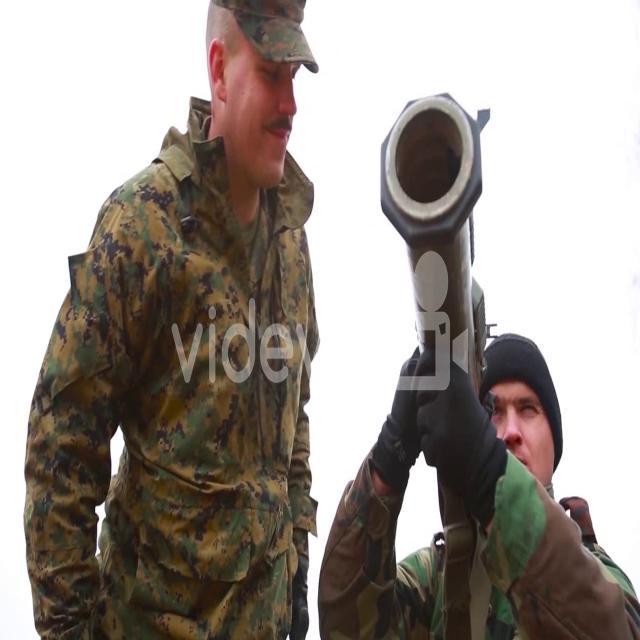bazooka: (376, 83, 495, 565)
